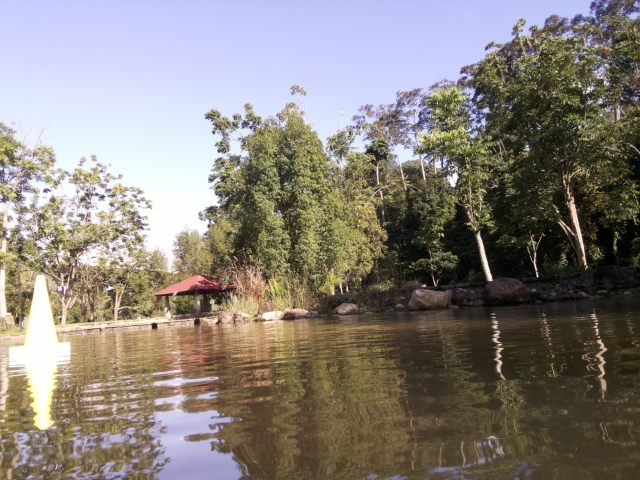checkpoint: (9, 274, 72, 364)
